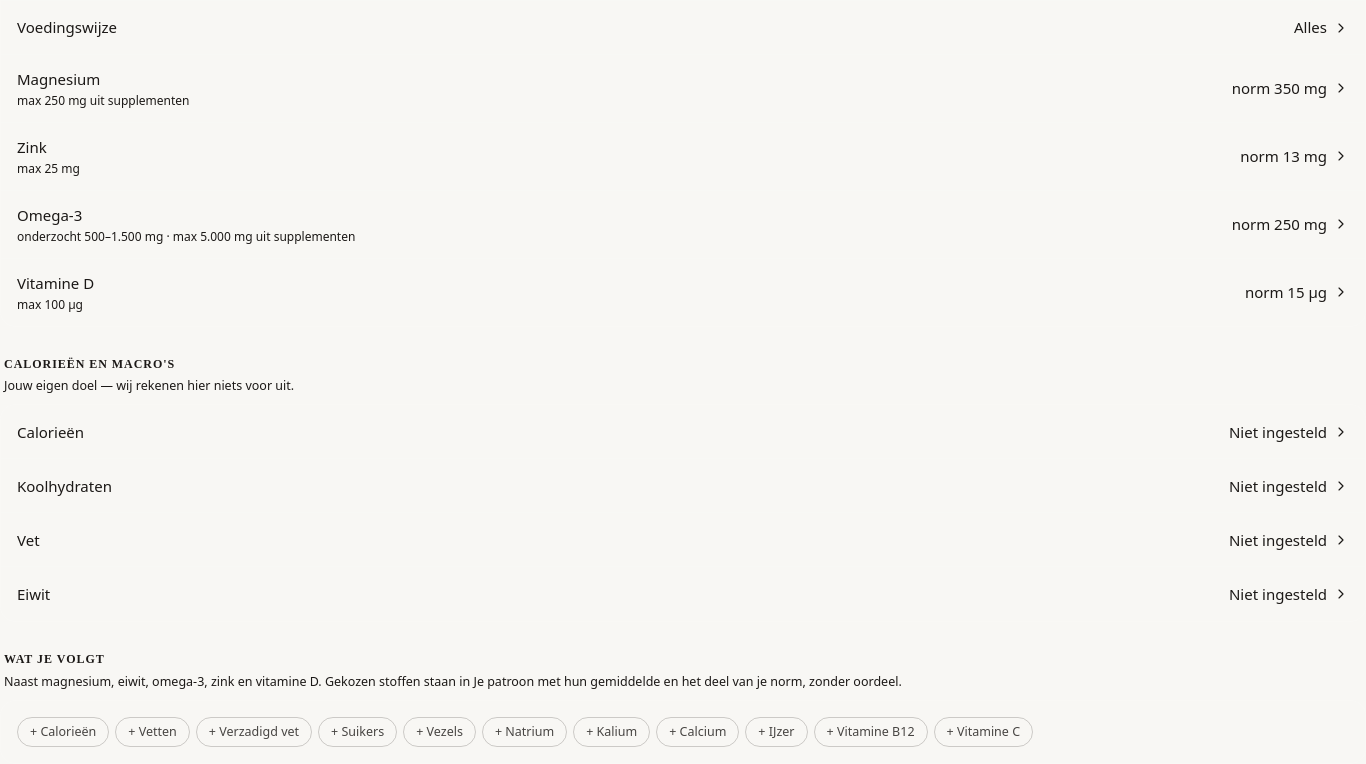
Test: DoelenLijst › vult een macro nooit voor: − en + werken pas als je zelf iets typt
(page scrolled)
Click the button "Koolhydraten Niet ingesteld": (64, 486) [1, 459, 1365, 513]
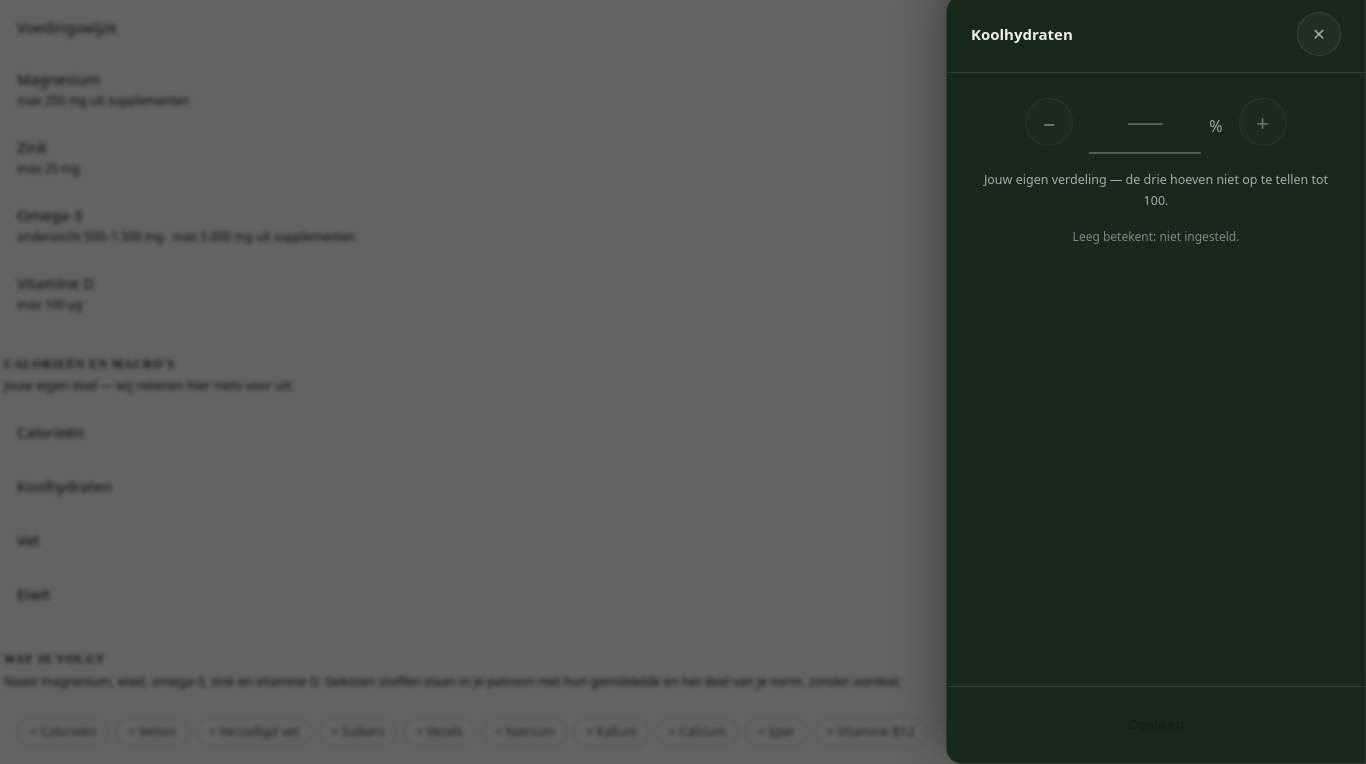
Expected: the button named "5 % meer" is disabled, [1239, 98, 1287, 146]
